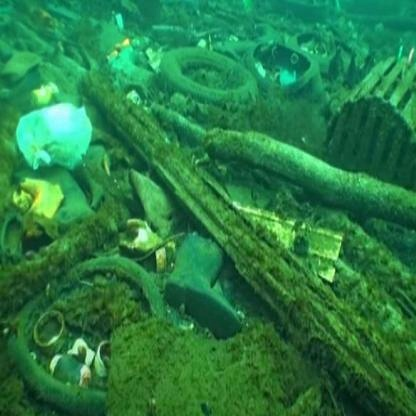plastic: (162, 218, 273, 353), (16, 88, 96, 161)
tire: (26, 247, 168, 402), (246, 22, 336, 126), (162, 34, 249, 124)
